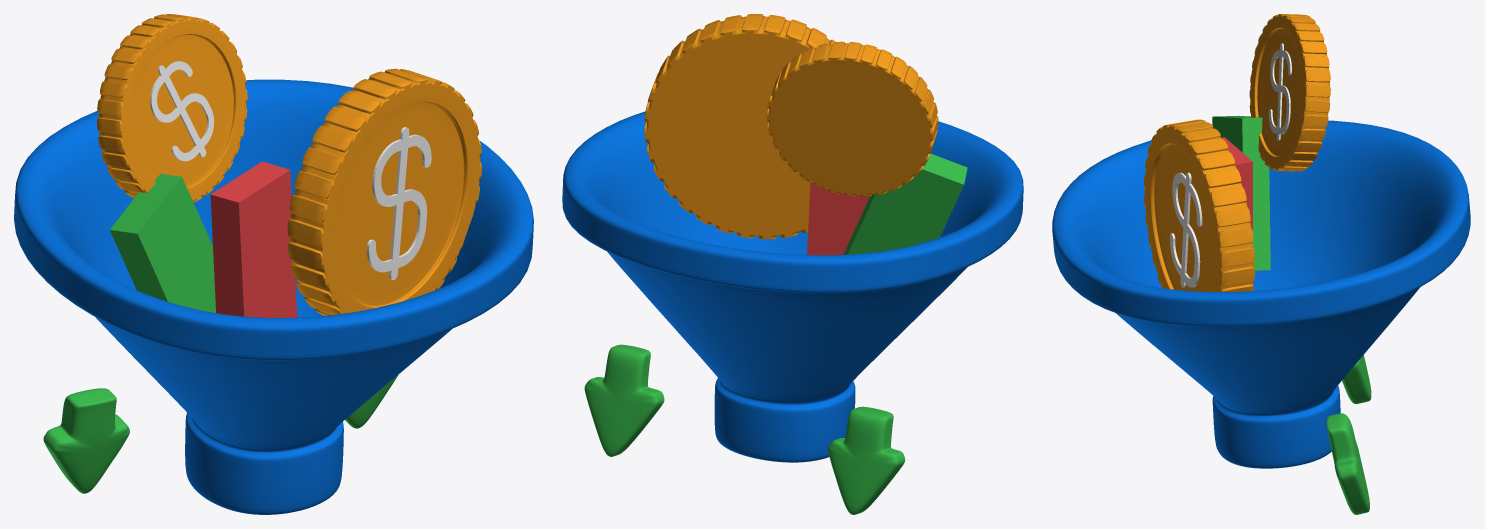
Rendered from sales-funnel-3d-animated-icon-1561517455244.glb.
The picture shows the model from 3 angles, left to right: view 1: azimuth 30°, elevation 25°; view 2: azimuth 150°, elevation 25°; view 3: azimuth 270°, elevation 25°; orthographic projection. The views are drawn at different scales.
Visible parts, largest first — view 1: Cube, Cylinder.003, Cylinder.006, Cube.002, Cube.001, Plane.001, Curve.003, Curve.002, Plane; view 2: Cube, Cylinder.003, Cylinder.006, Cube.001, Plane, Plane.001, Cube.002; view 3: Cube, Cylinder.003, Cylinder.006, Cube.001, Plane, Curve.003, Curve.002, Plane.001, Cube.002.
Part boxes in pixels (bbox=[...]): Cube: bbox=[14, 79, 533, 514]; Cylinder.003: bbox=[287, 68, 481, 315]; Cylinder.006: bbox=[96, 14, 247, 202]; Cube.002: bbox=[210, 161, 297, 317]; Cube.001: bbox=[110, 173, 215, 312]; Plane.001: bbox=[43, 388, 129, 493]; Curve.003: bbox=[367, 127, 431, 279]; Curve.002: bbox=[150, 61, 214, 161]; Plane: bbox=[345, 375, 397, 428]; Cube: bbox=[562, 111, 1023, 462]; Cylinder.003: bbox=[644, 14, 835, 239]; Cylinder.006: bbox=[766, 41, 938, 196]; Cube.001: bbox=[843, 154, 967, 254]; Plane: bbox=[584, 344, 664, 456]; Plane.001: bbox=[828, 406, 905, 514]; Cube.002: bbox=[807, 181, 869, 255]; Cube: bbox=[1052, 120, 1470, 468]; Cylinder.003: bbox=[1144, 119, 1254, 291]; Cylinder.006: bbox=[1249, 14, 1330, 171]; Cube.001: bbox=[1212, 115, 1270, 270]; Plane: bbox=[1326, 413, 1369, 514]; Curve.003: bbox=[1169, 172, 1202, 287]; Curve.002: bbox=[1268, 43, 1291, 140]; Plane.001: bbox=[1342, 355, 1371, 403]; Cube.002: bbox=[1221, 137, 1253, 284].
Size of the model in its own units: 2.9 by 3.09 by 2.9.
